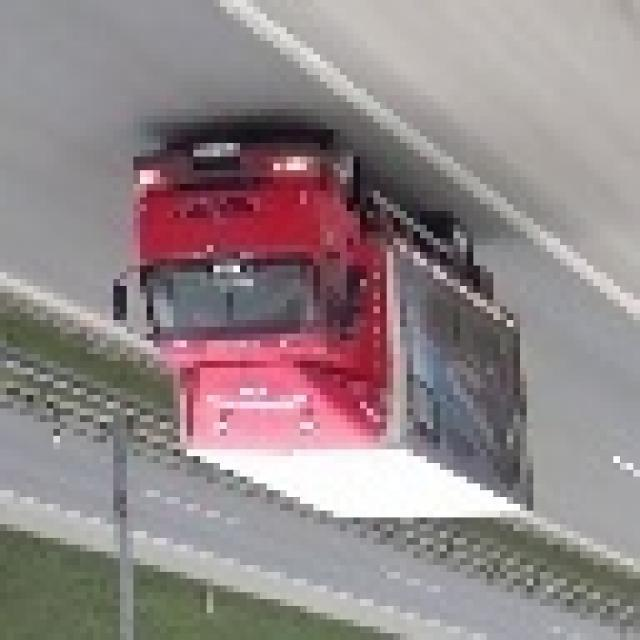truck: (106, 136, 526, 531)
